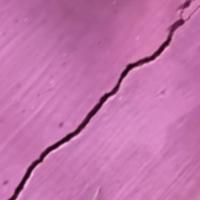crack: (0, 0, 194, 199)
